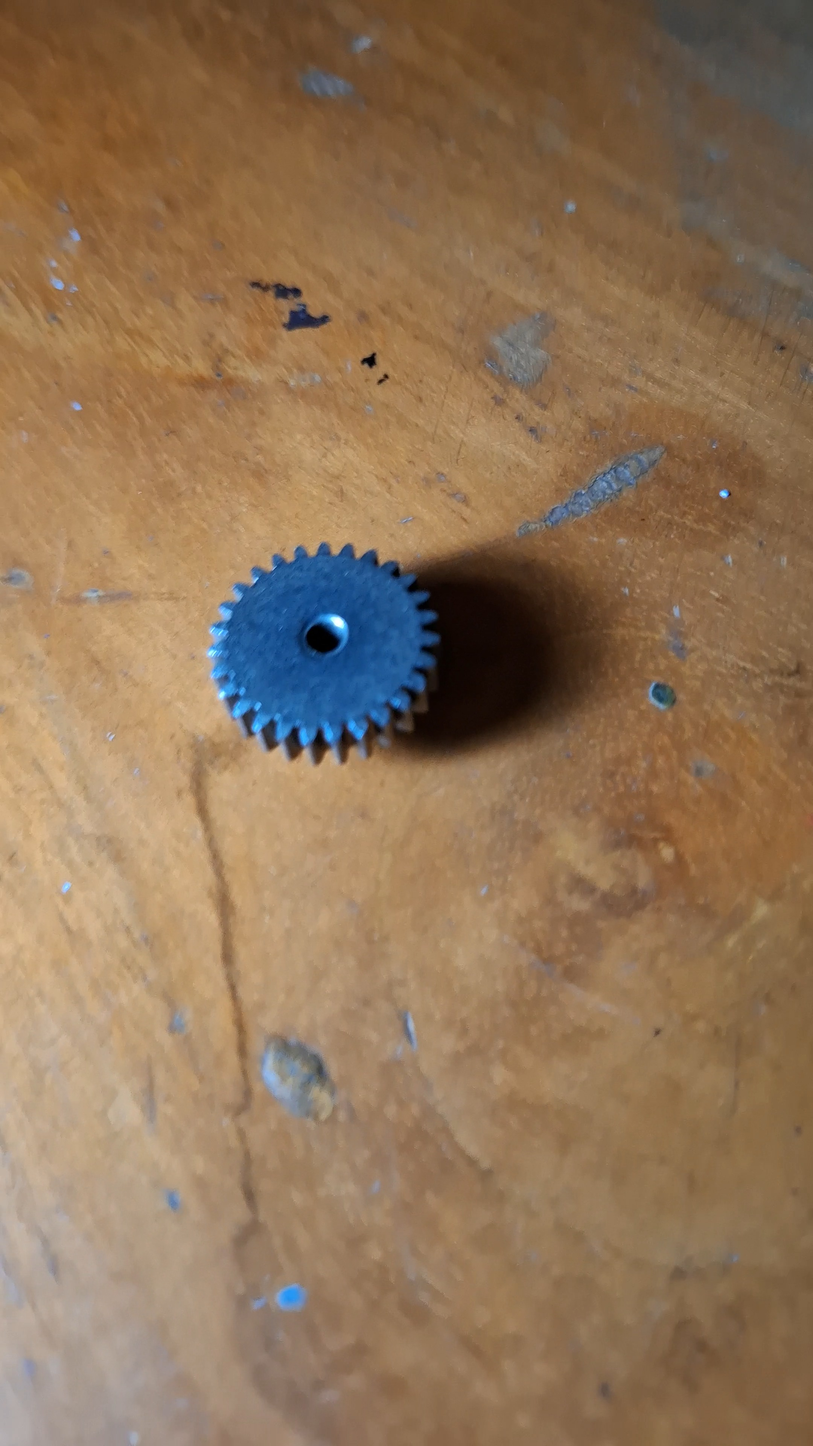spur gear: (209, 543, 439, 762)
